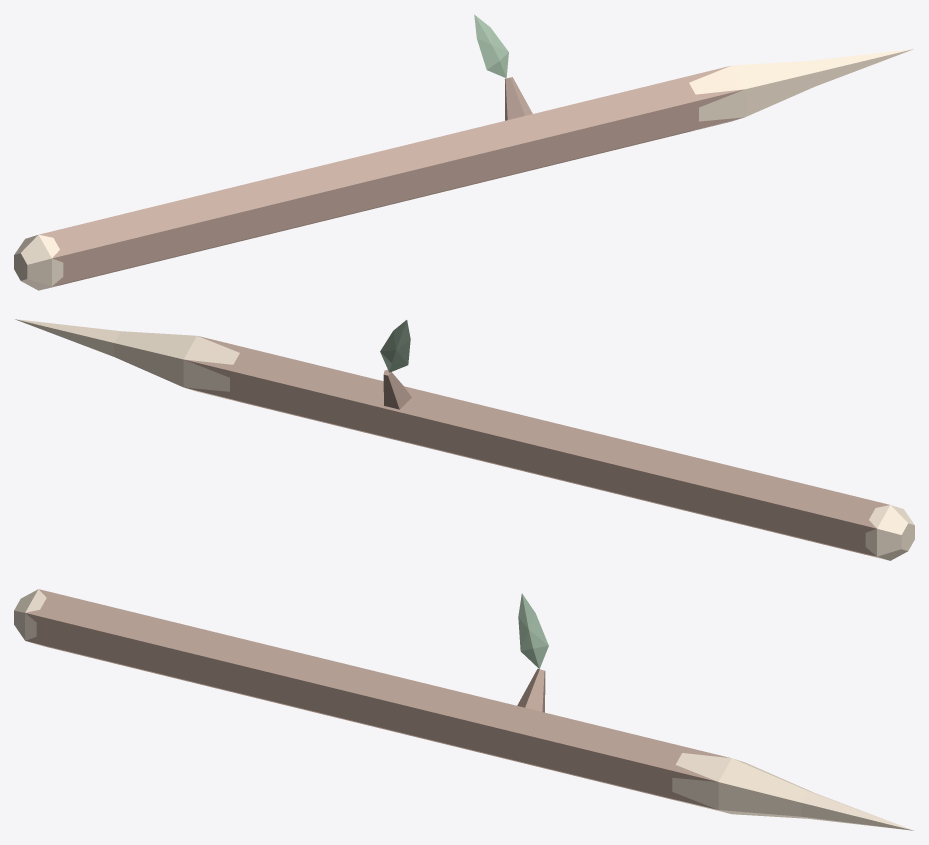
Rendered from Stick.fbx.
The picture shows the model from 3 angles, top to bottom: view 1: azimuth 30°, elevation 25°; view 2: azimuth 150°, elevation 25°; view 3: azimuth 330°, elevation 25°; orthographic projection.
Parts seen in each view (by area): view 1: Stick; view 2: Stick; view 3: Stick.
Part boxes in pixels (bbox=[...]): Stick: bbox=[14, 14, 913, 290]; Stick: bbox=[14, 319, 914, 560]; Stick: bbox=[14, 589, 914, 830].
Bounding box in the file's own units: 0.5013 × 0.0786 × 0.0361.
